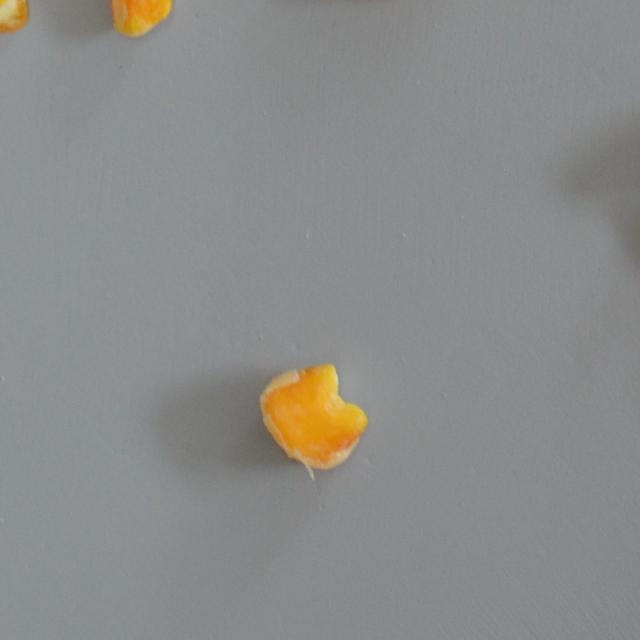dañado: (256, 359, 368, 486), (100, 0, 180, 42), (0, 0, 34, 38)
